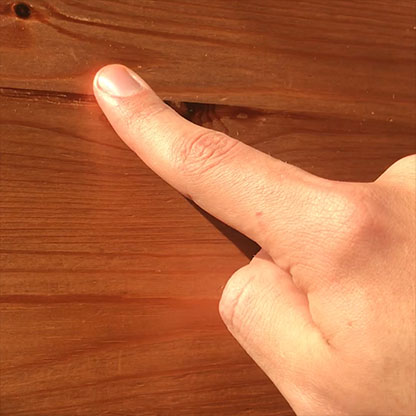fingertip: (87, 53, 154, 115)
